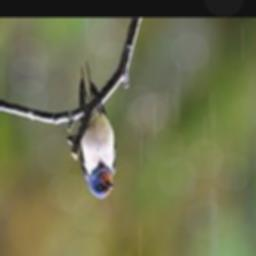Swallow: (78, 61, 117, 198)
